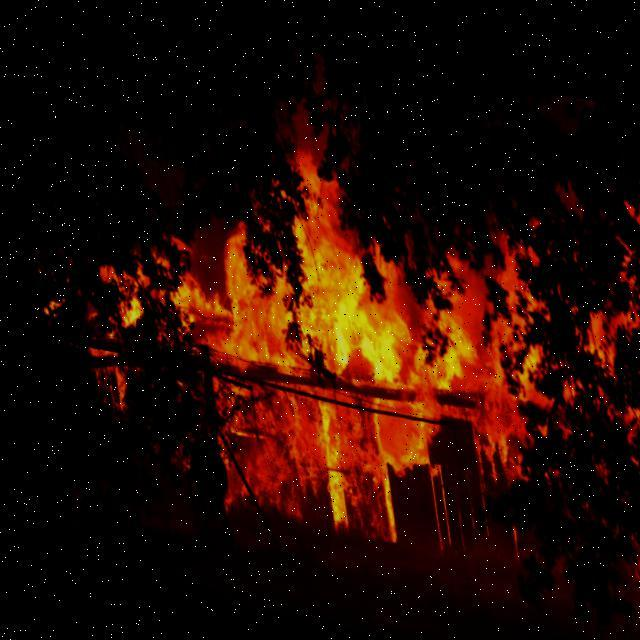Fire: (82, 80, 576, 563)
